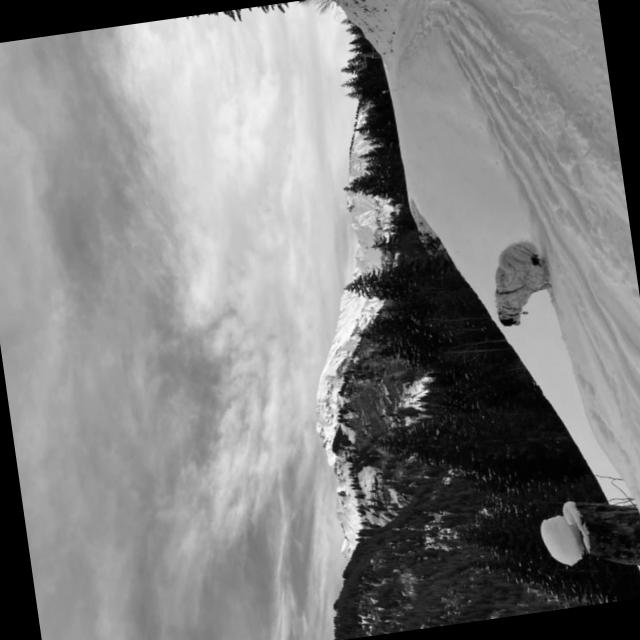squatting: (479, 232, 563, 333)
